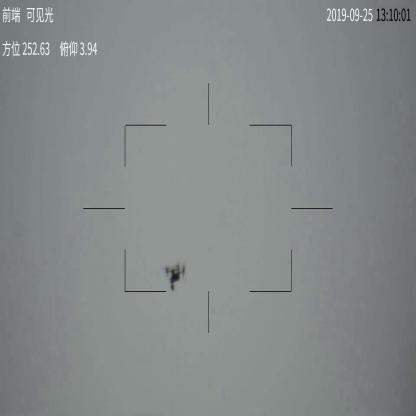uav: (163, 260, 188, 290)
